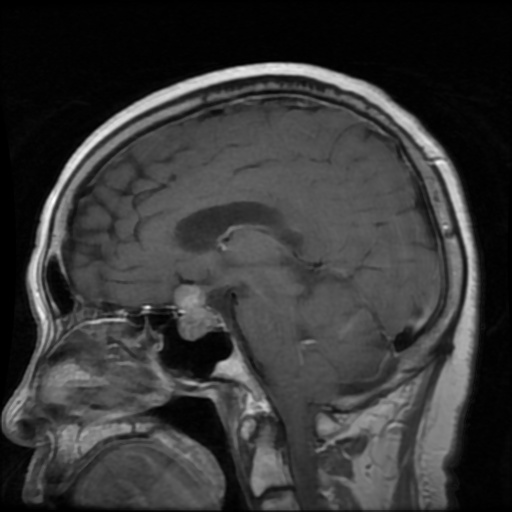pituitary: (173, 284, 217, 339)
